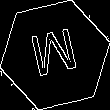M_S: (27, 25, 83, 85)
